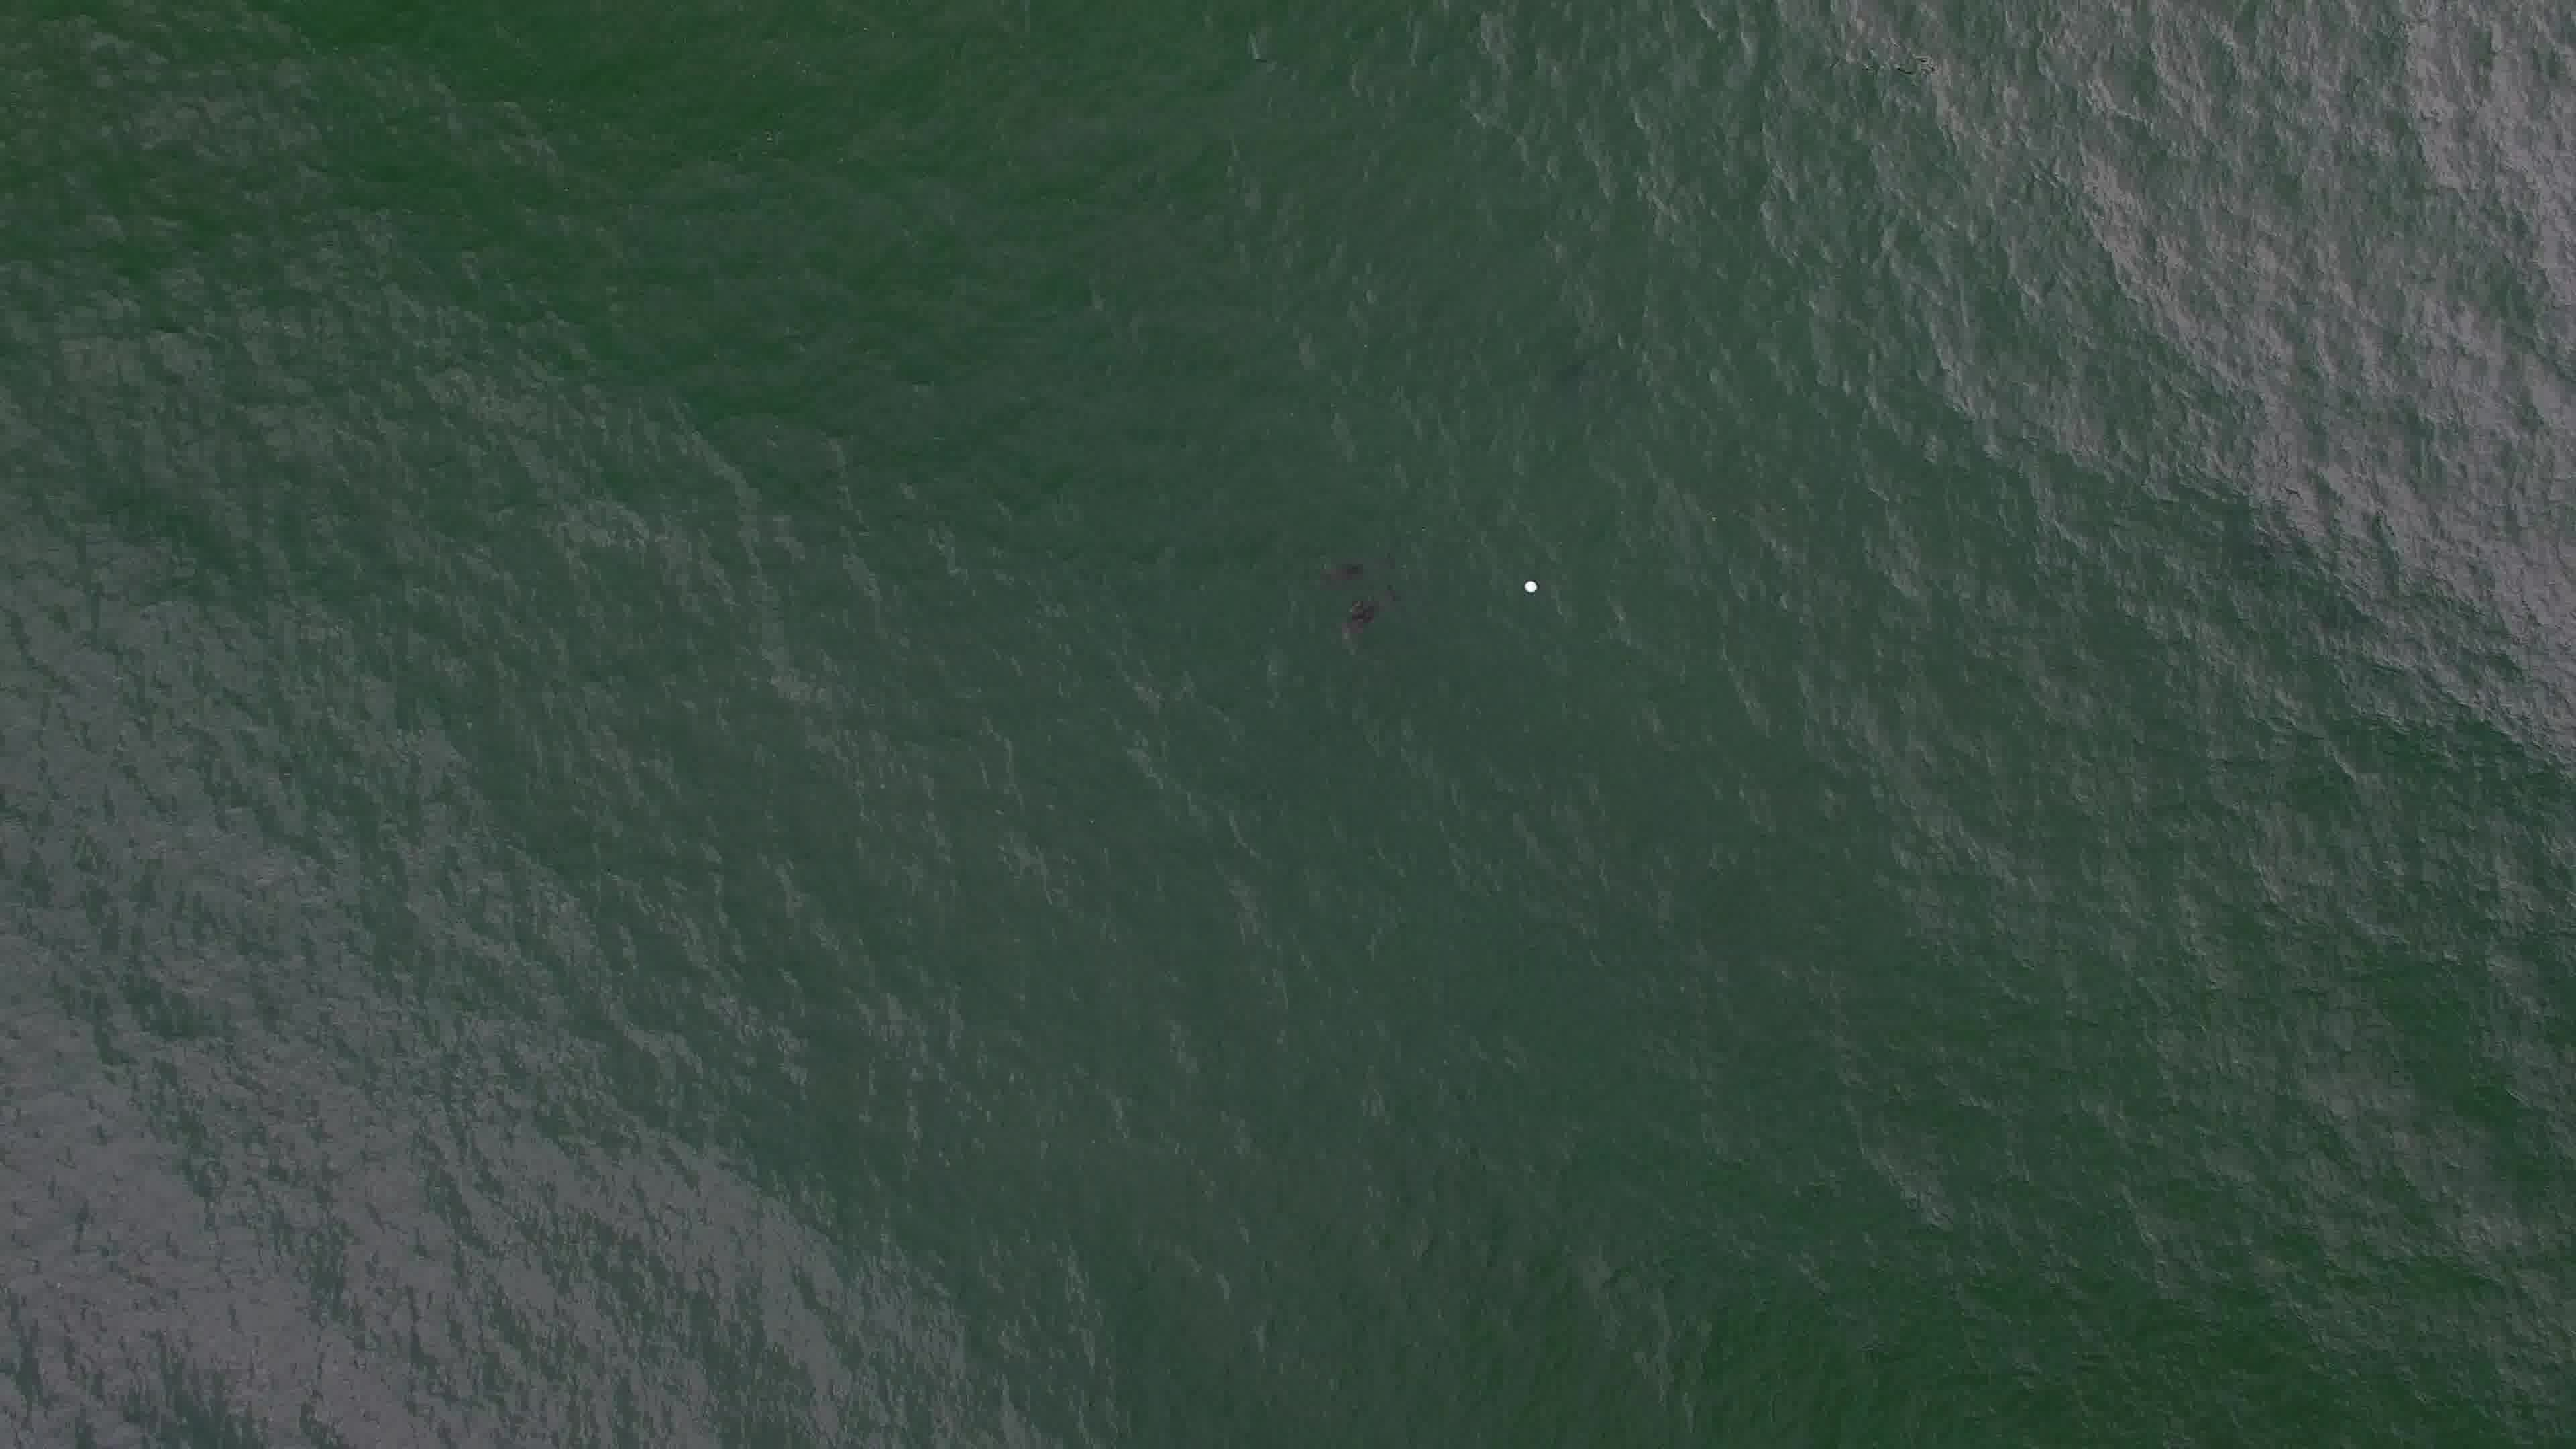dolphin: (1304, 538, 1407, 596), (1316, 582, 1414, 637)
